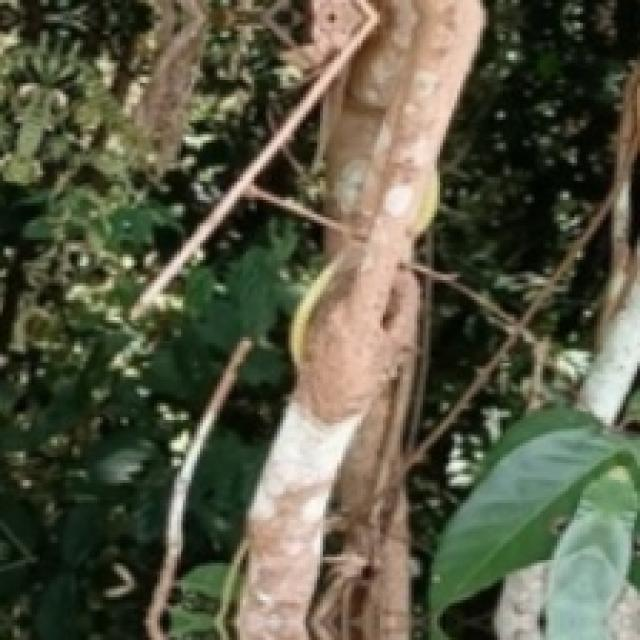paradise tree snake: (237, 0, 480, 637)
